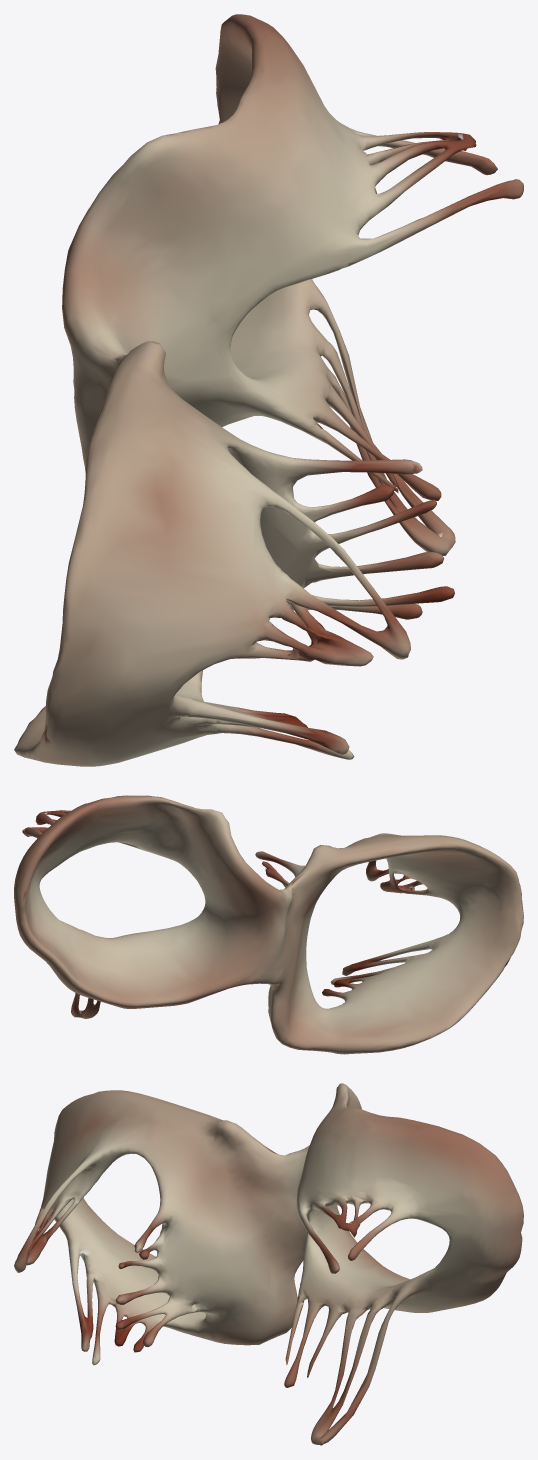
File: BombaVentrilocos.fbx
The picture shows the model from 3 angles, top to bottom: view 1: azimuth 30°, elevation 25°; view 2: azimuth 150°, elevation 25°; view 3: azimuth 270°, elevation 25°; orthographic projection. The views are drawn at different scales.
Visible parts, largest first — view 1: av_valves; view 2: av_valves; view 3: av_valves.
Part boxes in pixels (x1,y1,x2,y2): av_valves: (14,14,523,766); av_valves: (14,795,523,1054); av_valves: (14,1083,523,1445).
Bounding box in the file's own units: 0.7539 × 0.5147 × 0.7858.
